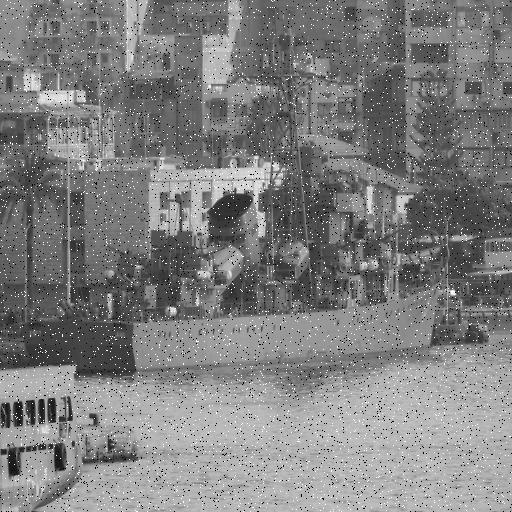Fragata: (19, 8, 453, 385)
